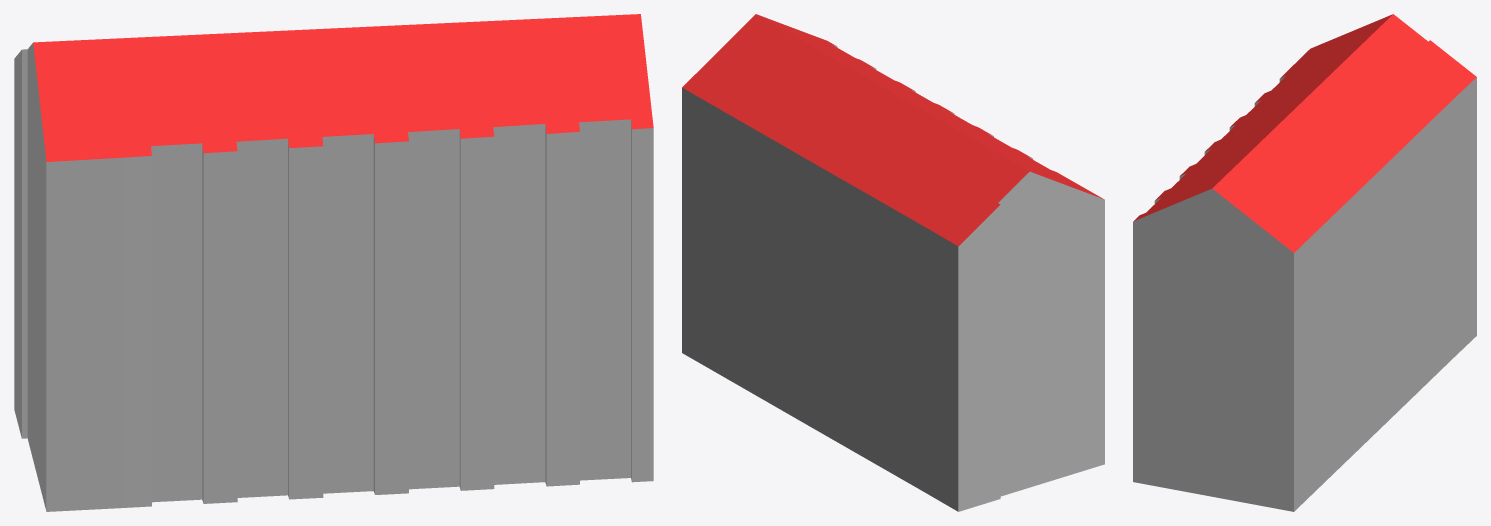
The model's file is DEBY_LOD2_4906976.dae.
The picture shows the model from 3 angles, left to right: view 1: azimuth 30°, elevation 25°; view 2: azimuth 150°, elevation 25°; view 3: azimuth 270°, elevation 25°; orthographic projection. The views are drawn at different scales.
Size of the model in its own units: 28.6 by 20.25 by 20.03.
